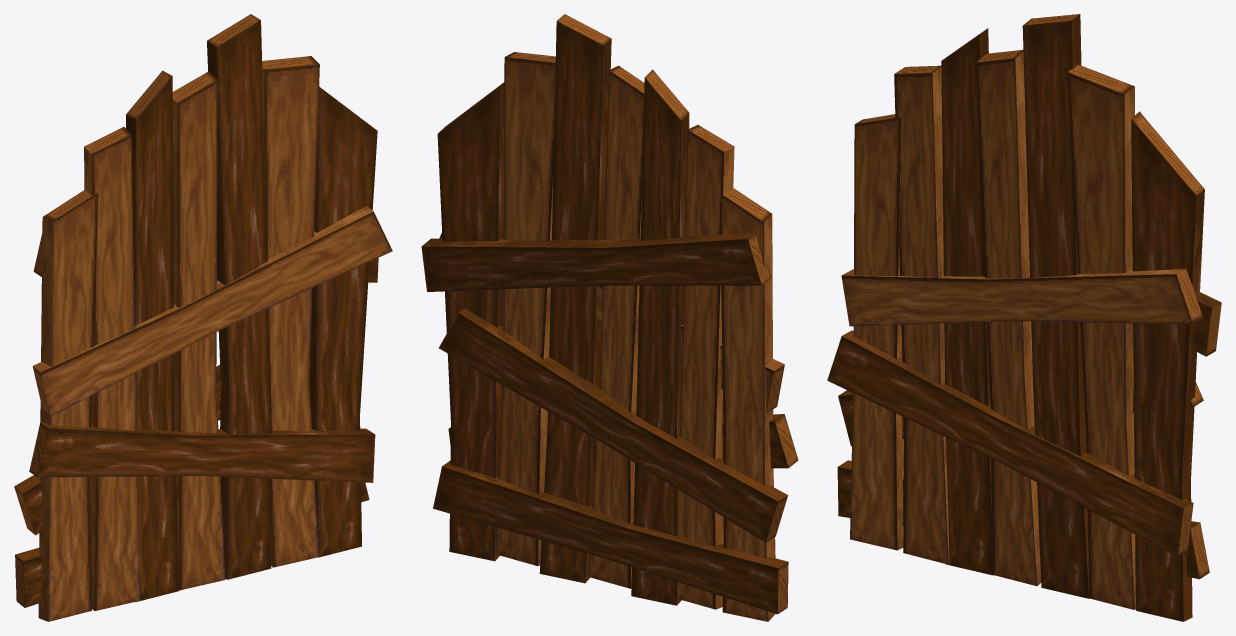
File: item_castle_door.glb
3 renders of one model, left to right at view 1: azimuth 30°, elevation 25°; view 2: azimuth 150°, elevation 25°; view 3: azimuth 330°, elevation 25°, orthographic. The views are drawn at different scales.
Visible parts, largest first — view 1: Door; view 2: Door; view 3: Door.
Boxes of the visible parts, box(x1,y1,x2,y2) form: Door: box(14, 14, 392, 621); Door: box(421, 14, 798, 621); Door: box(827, 14, 1221, 621).
Bounding box in the file's own units: 1.12 × 1.66 × 0.1403.
Materials: 1 (1 with a texture image).
